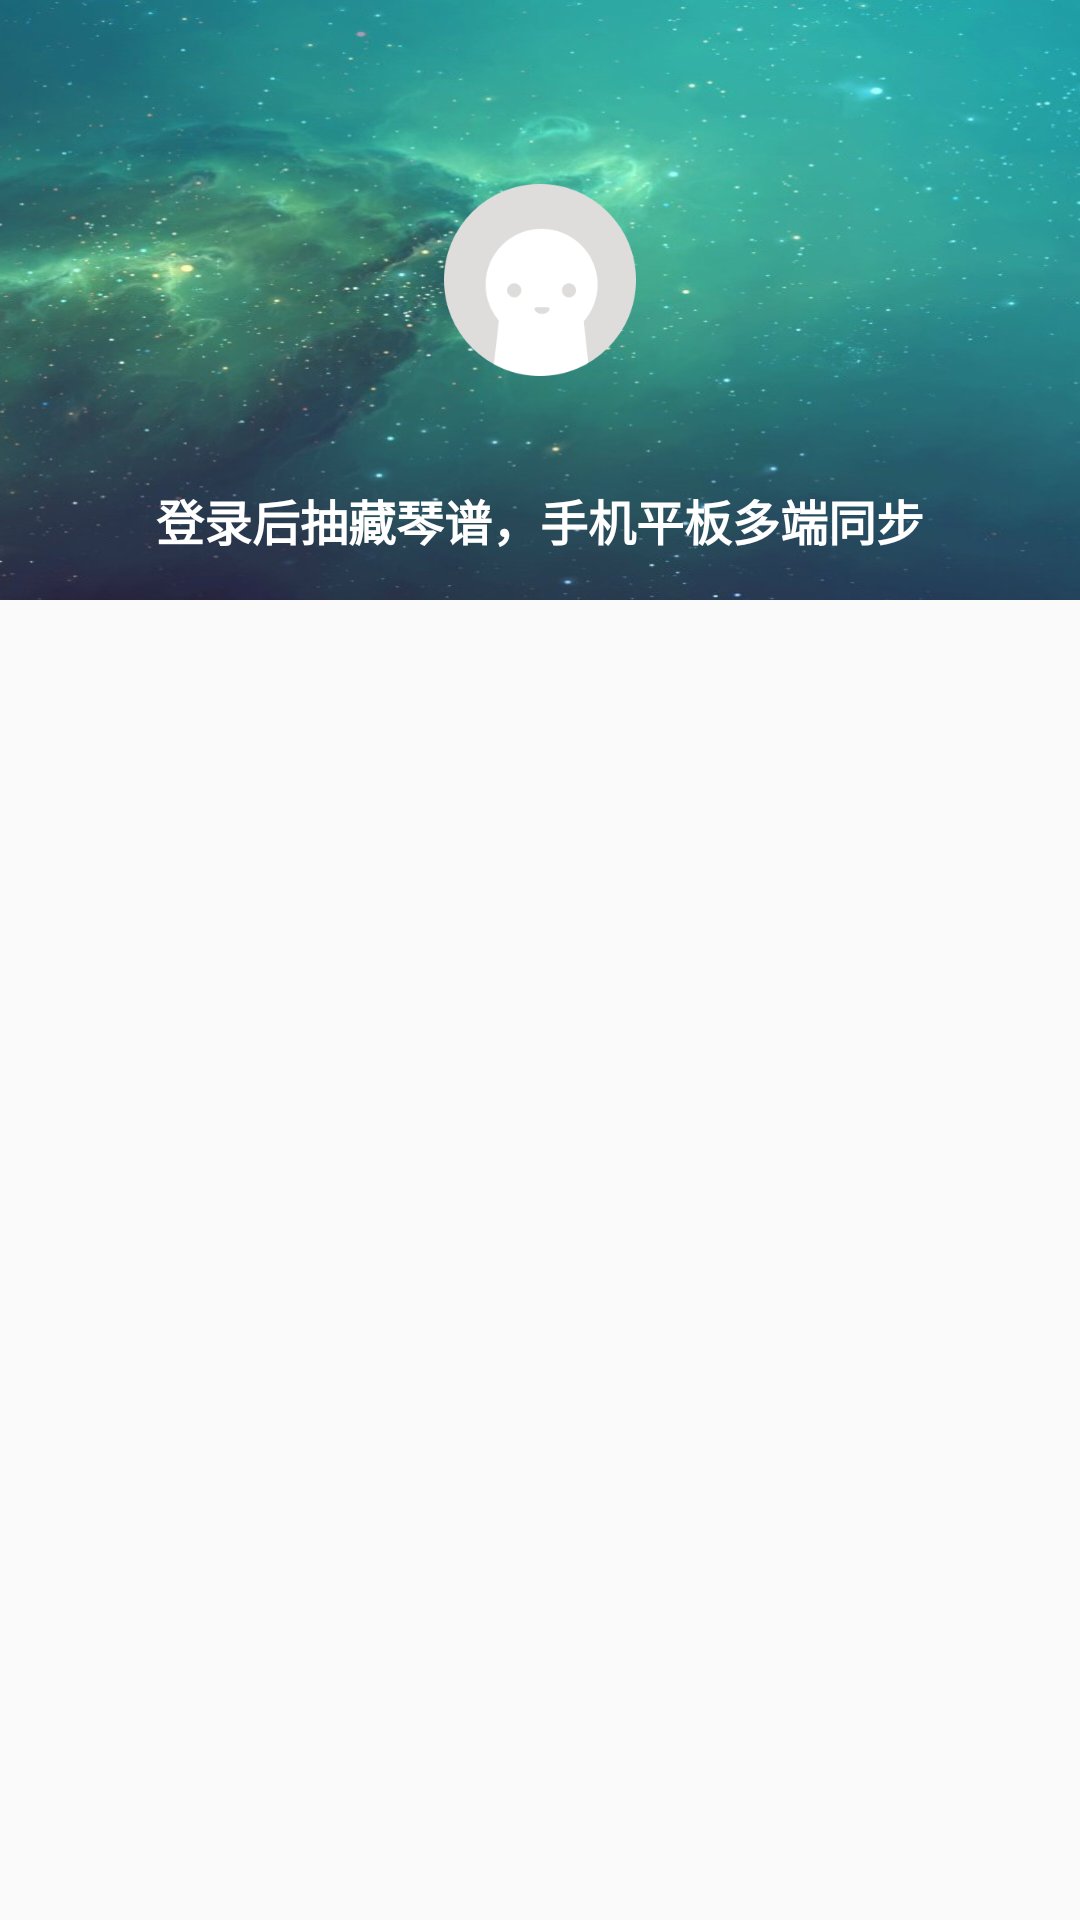

Where to tap for icons on this 1080w x 1920h app screen, as point (x, y):
head: point (540, 280)
